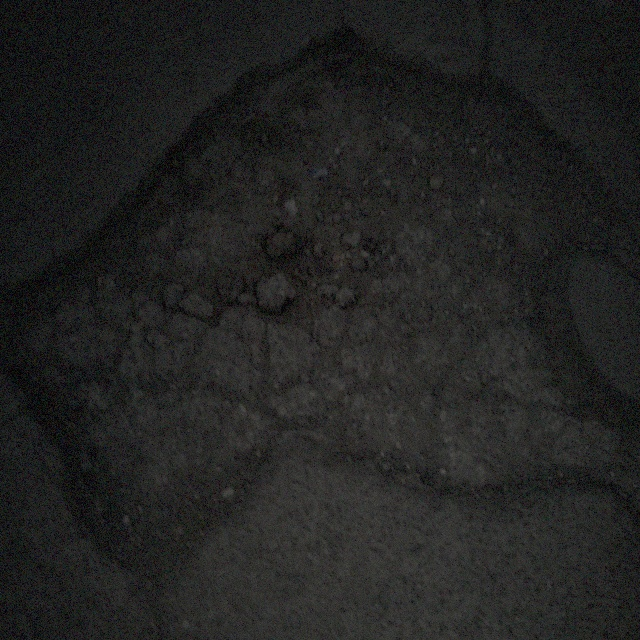pothole: (11, 25, 633, 586)
